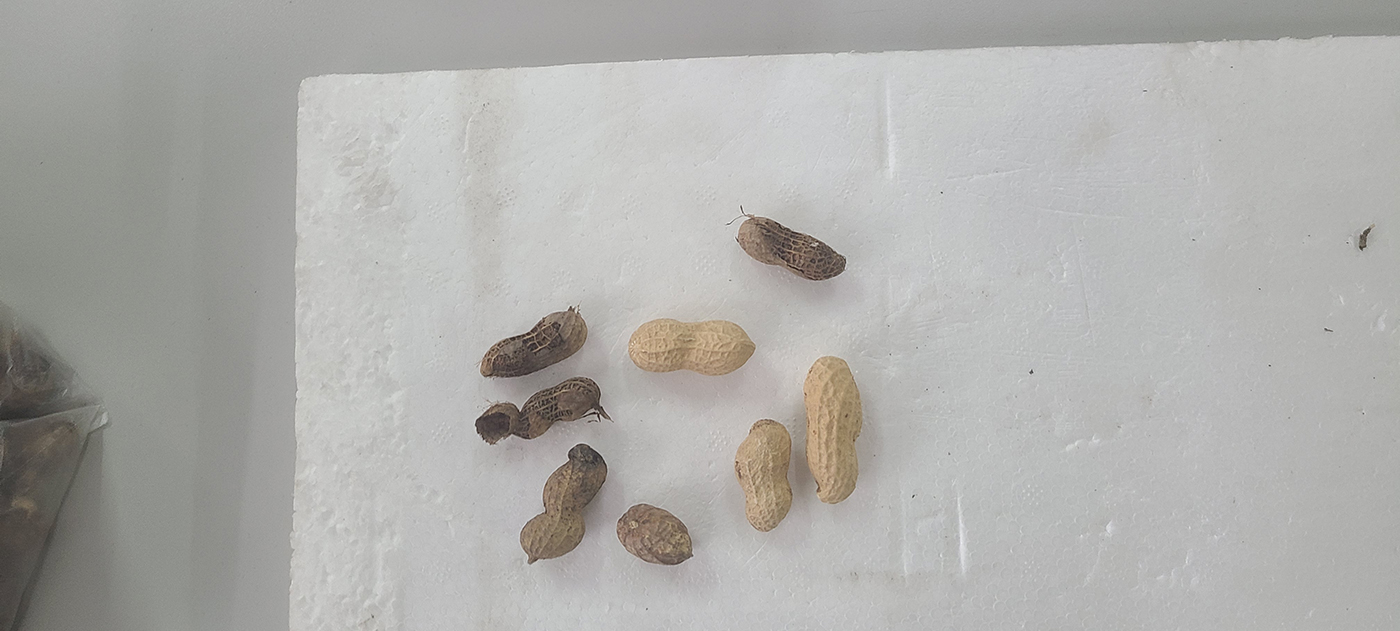h: (800, 355, 861, 502), (628, 316, 757, 374), (734, 418, 794, 532)
l: (521, 443, 607, 558), (476, 378, 601, 442), (479, 308, 588, 379), (736, 214, 847, 279), (616, 504, 694, 563)
